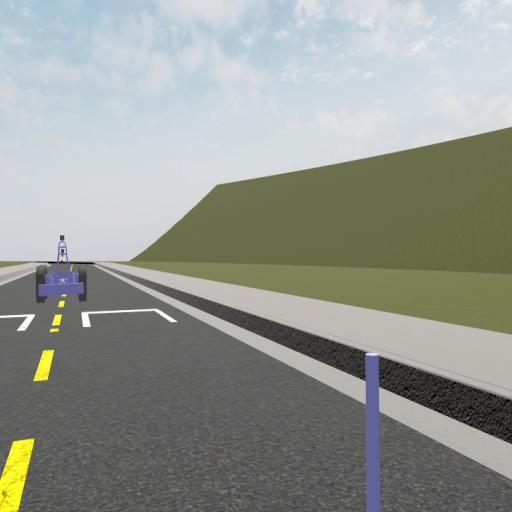ERP-42: (35, 234, 88, 303)
